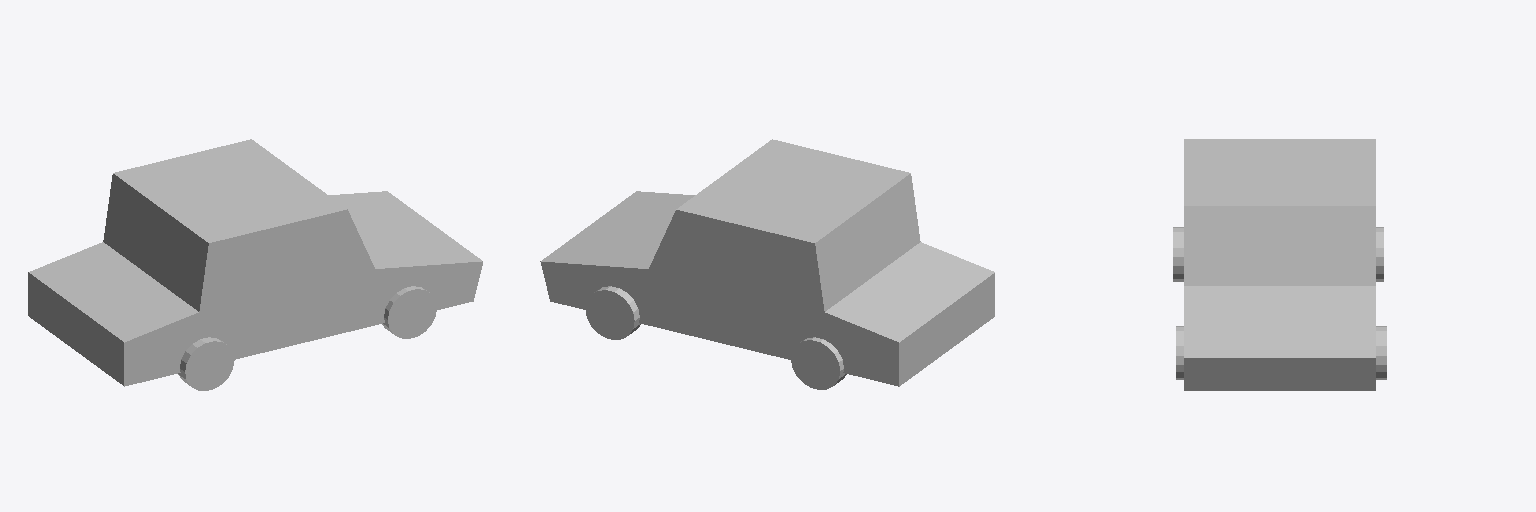
Rendered from car1.obj.
3 views of the same model, side by side, from view 1: azimuth 30°, elevation 25°; view 2: azimuth 150°, elevation 25°; view 3: azimuth 270°, elevation 25° (orthographic).
Visible parts, largest first — view 1: Car_04; view 2: Car_04; view 3: Car_04.
Boxes of the visible parts, x1,y1,x2,y2 form: Car_04: [28, 139, 482, 390]; Car_04: [540, 139, 994, 389]; Car_04: [1173, 139, 1386, 390].
Bounding box in the file's own units: 76.54 × 28.93 × 39.39.